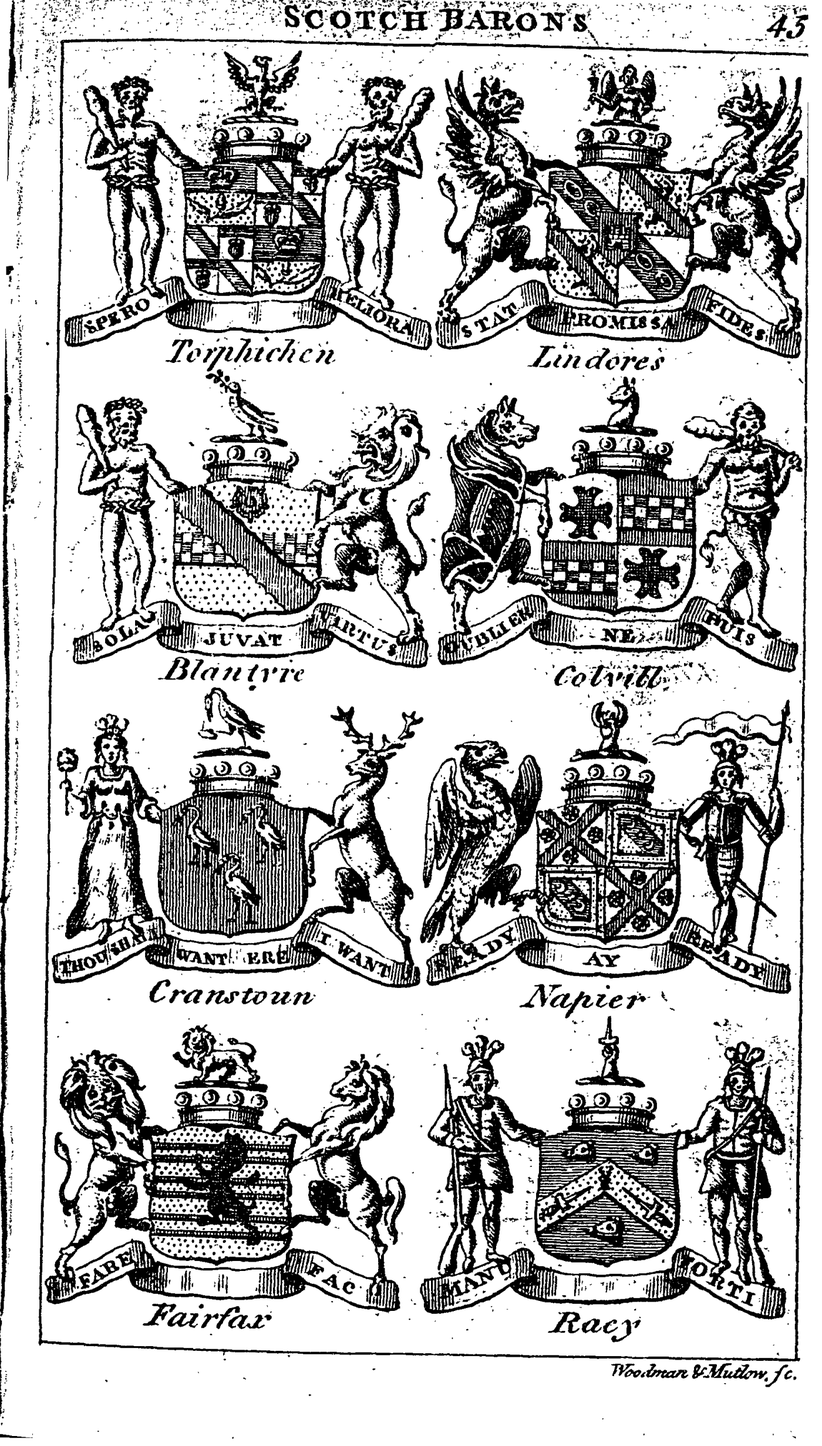coat_of_arms: (440, 49, 810, 382), (53, 692, 420, 1022), (65, 46, 437, 371), (419, 1014, 790, 1339), (430, 691, 795, 1018), (68, 370, 432, 692), (42, 1019, 407, 1333), (440, 386, 802, 685)
